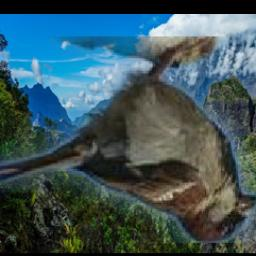Sparrow: (0, 37, 256, 244)
